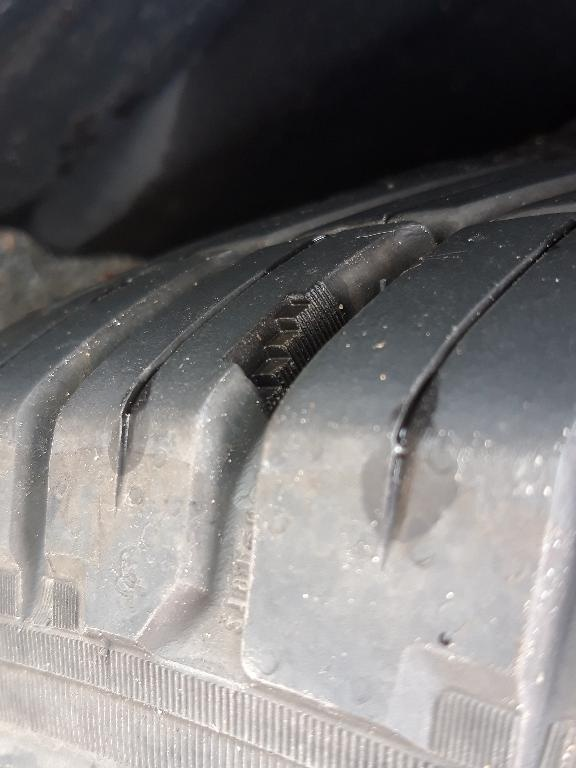temoin:90: (216, 275, 350, 426)
